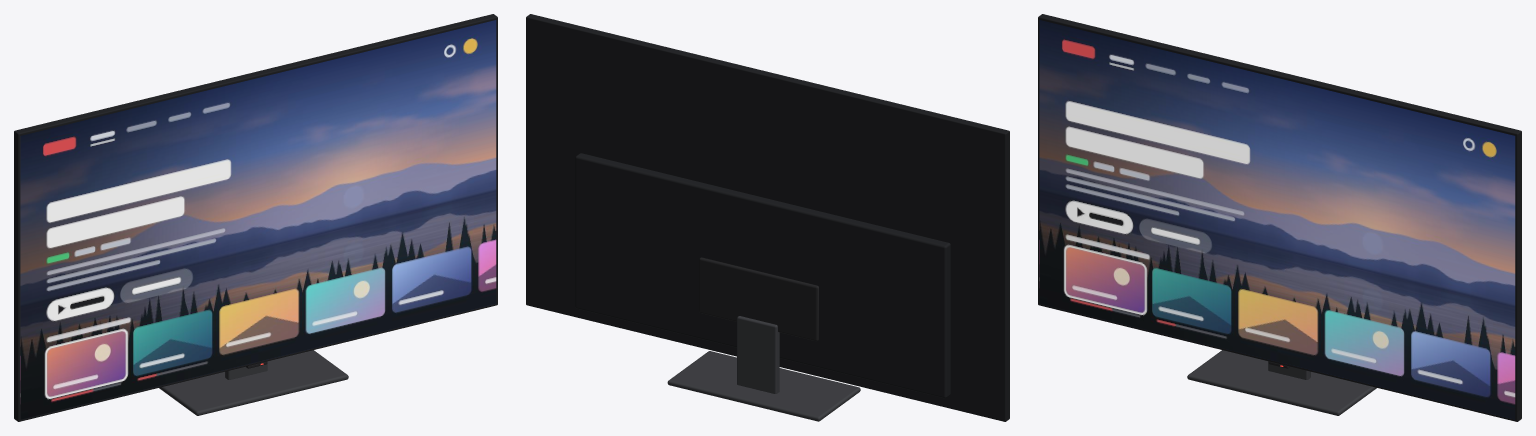
3 renders of one model, left to right at view 1: azimuth 30°, elevation 25°; view 2: azimuth 150°, elevation 25°; view 3: azimuth 330°, elevation 25°, orthographic.
Parts seen in each view (by area): view 1: tv_screen, tv_panel, tv_stand_plate; view 2: tv_panel, tv_back_cover, tv_stand_plate, tv_stand_neck; view 3: tv_screen, tv_panel, tv_stand_plate.
Boxes of the visible parts, x1,y1,x2,y2 form: tv_screen: (20, 20, 496, 419); tv_panel: (14, 14, 497, 421); tv_stand_plate: (159, 350, 348, 415); tv_panel: (526, 14, 1009, 421); tv_back_cover: (575, 153, 950, 398); tv_stand_plate: (667, 351, 860, 421); tv_stand_neck: (737, 316, 779, 393); tv_screen: (1039, 20, 1515, 419); tv_panel: (1038, 14, 1521, 421); tv_stand_plate: (1187, 350, 1376, 415).
Size of the model in its own units: 1.45 by 0.9 by 0.22.
5 materials, 1 textured.
